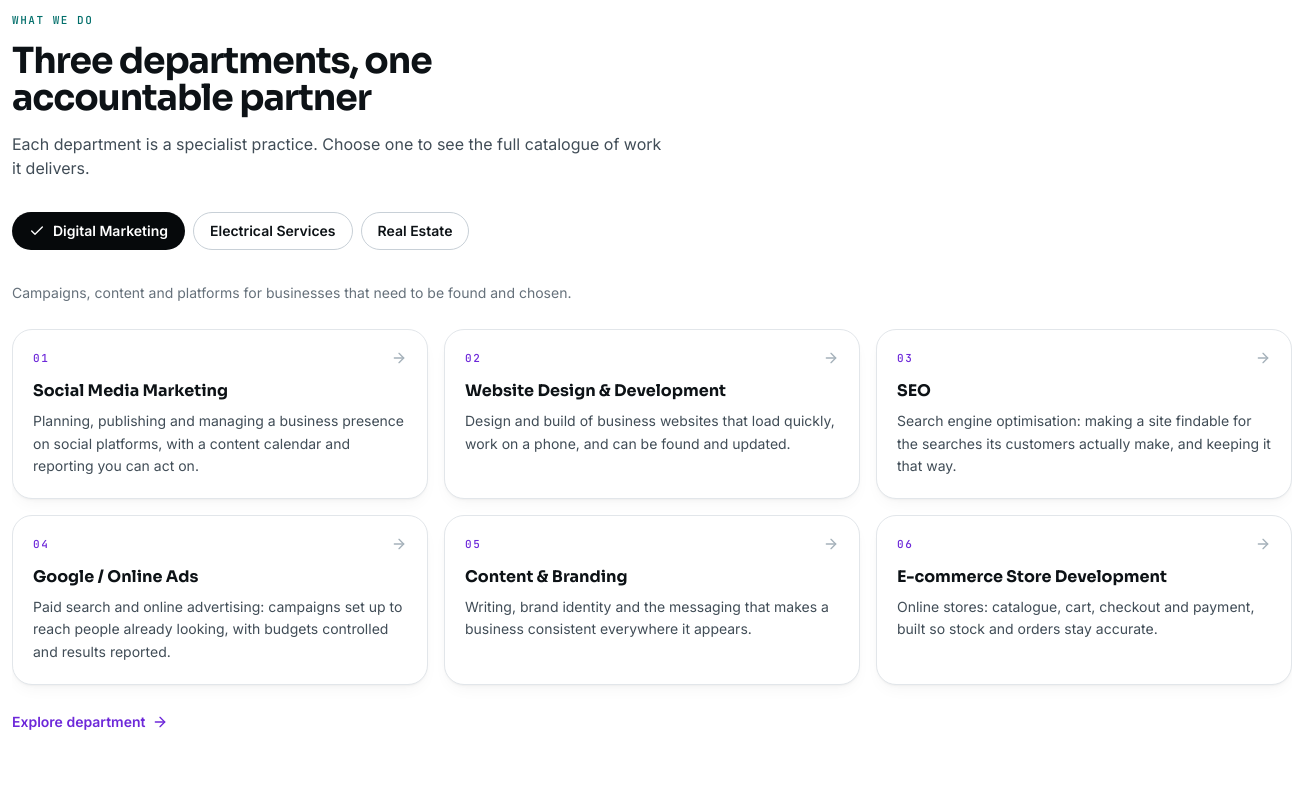
Scenario: DepartmentShowcase › switches panels on click and on the arrow keys
Click the tab "Electrical Services". click: click(273, 232)
box: [193, 212, 352, 250]
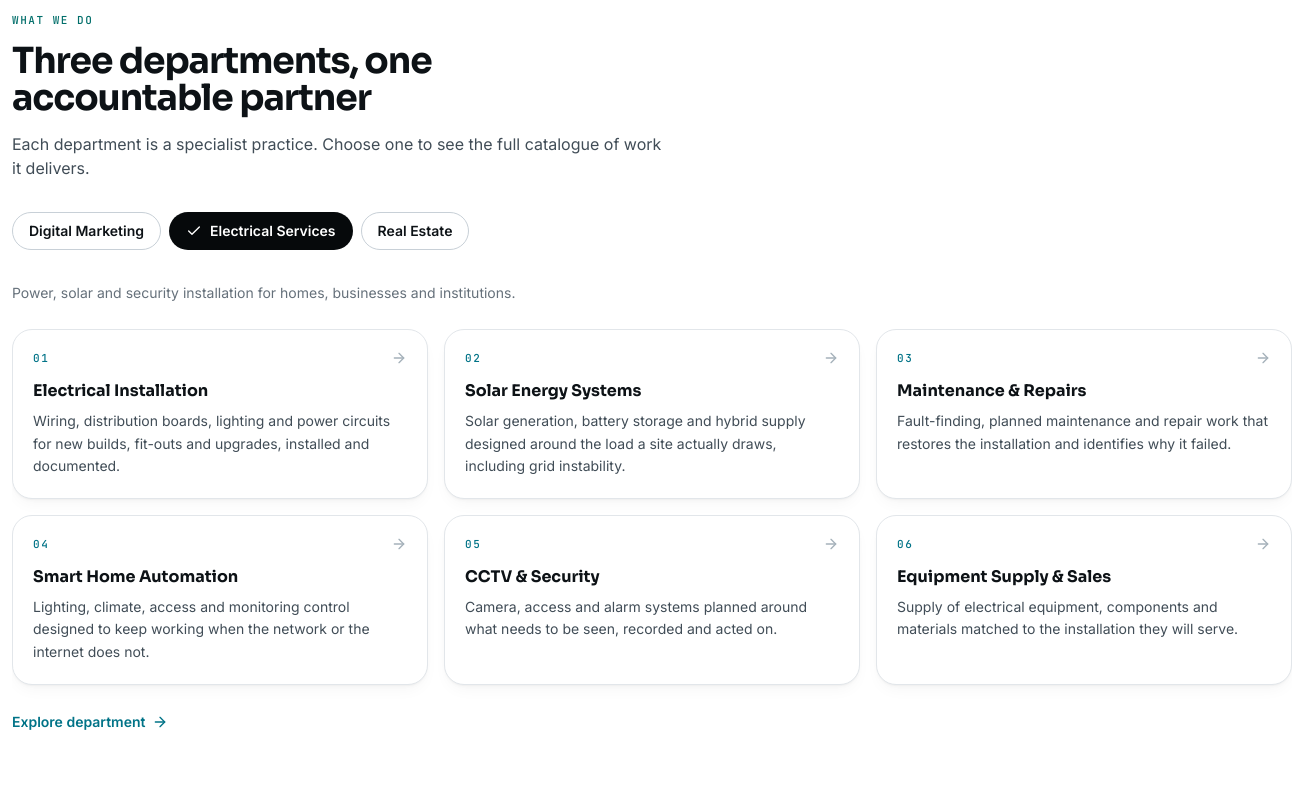
Result: the tab "Electrical Services" is selected
Result: the tab "Digital Marketing" is not selected at [12, 212, 161, 250]
Press ArrowRight in the tab "Electrical Services", box [169, 212, 352, 250]
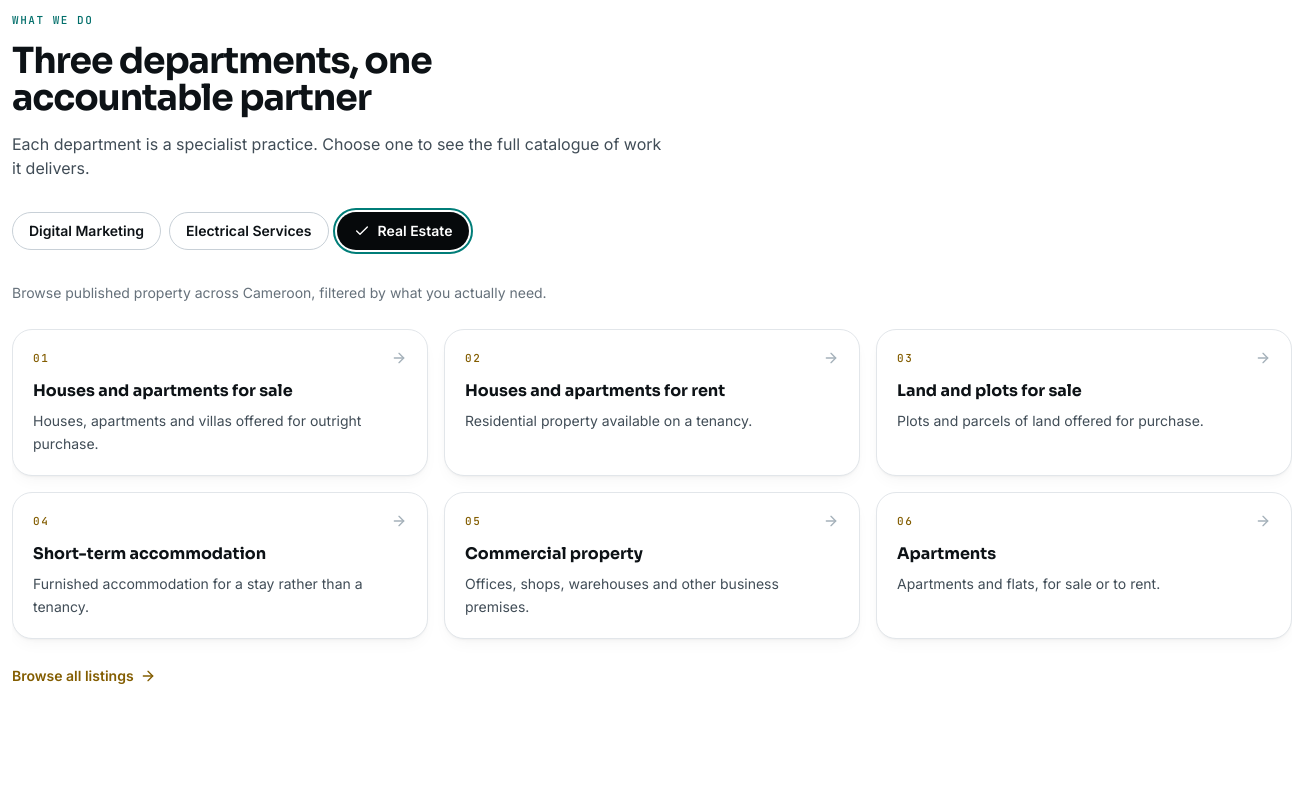
Result: the tab "Real Estate" is selected
The end of the list wraps rather than dead-ending.
Press ArrowRight in the tab "Real Estate", box [336, 212, 469, 250]
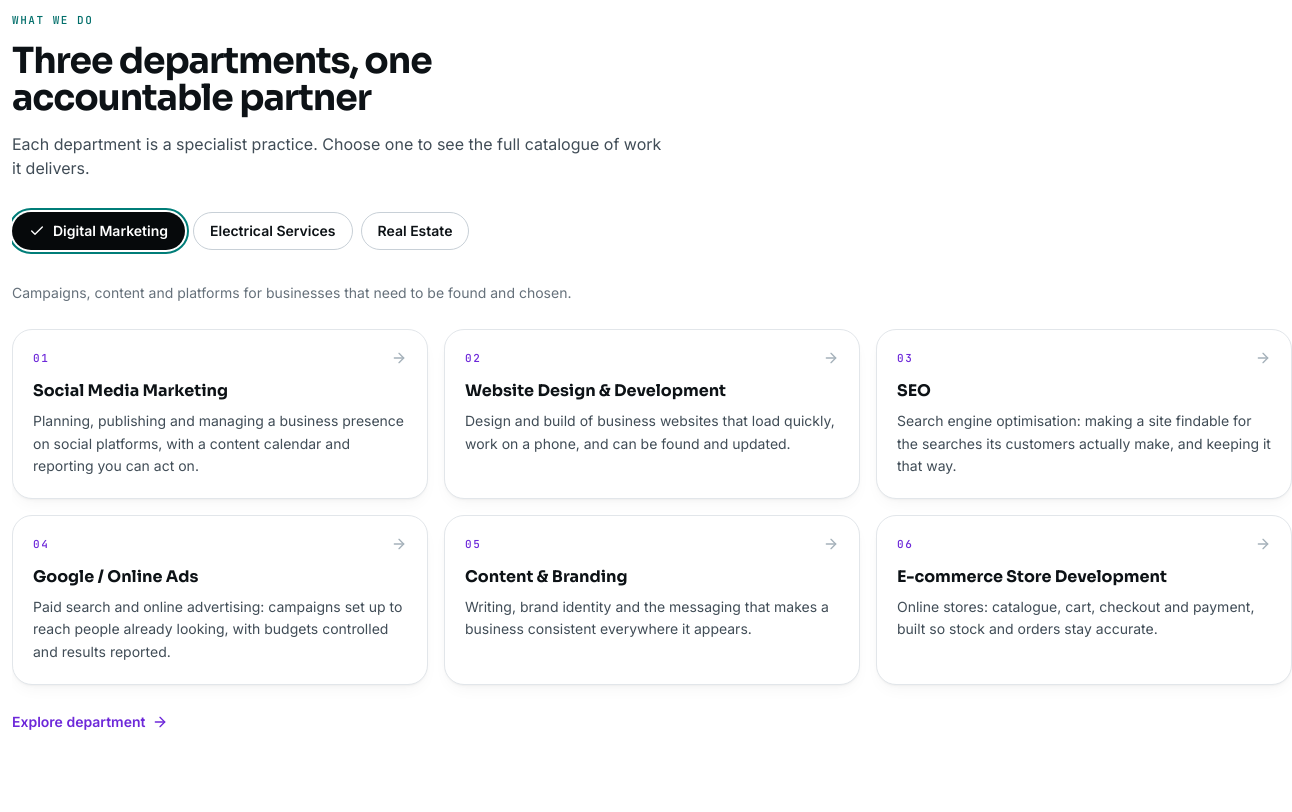
Result: the tab "Digital Marketing" is selected
Press End in the tab "Digital Marketing", box [12, 212, 185, 250]
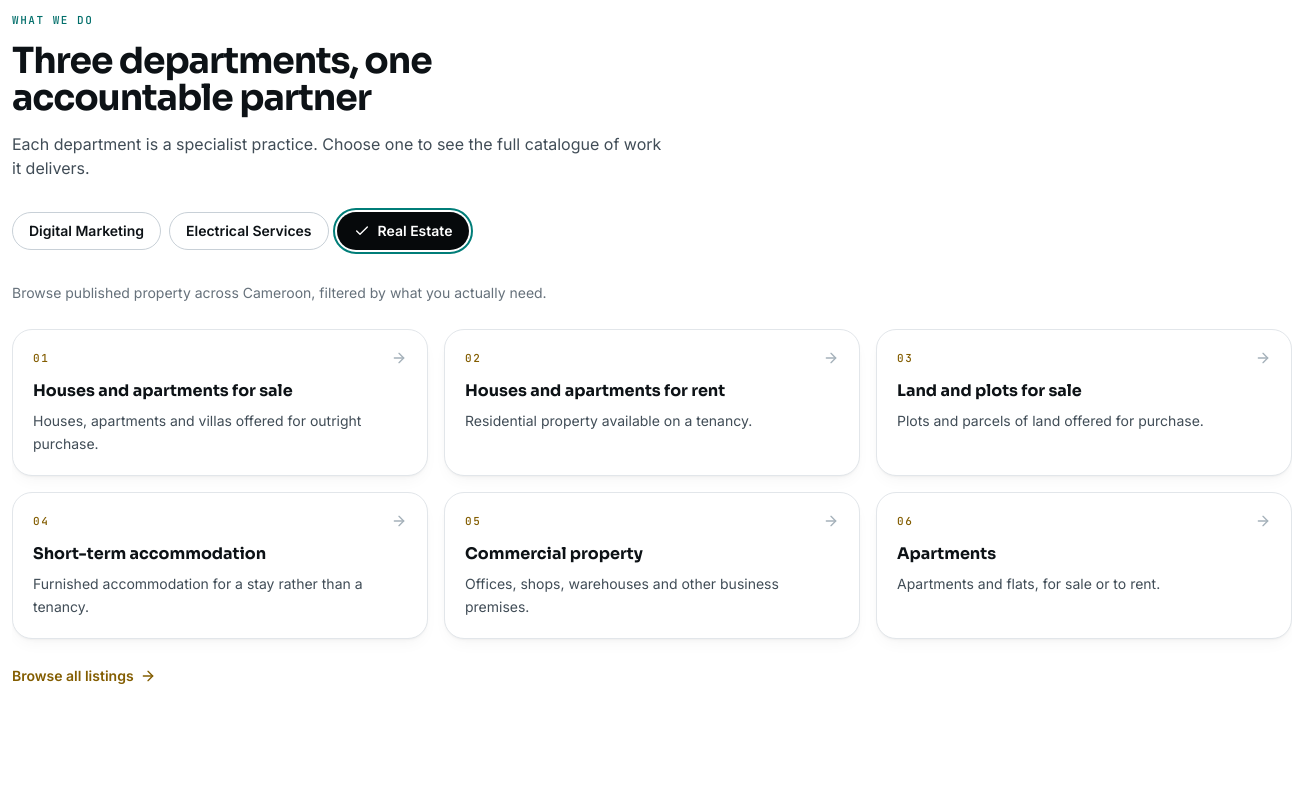
Result: the tab "Real Estate" is selected at [336, 212, 469, 250]
